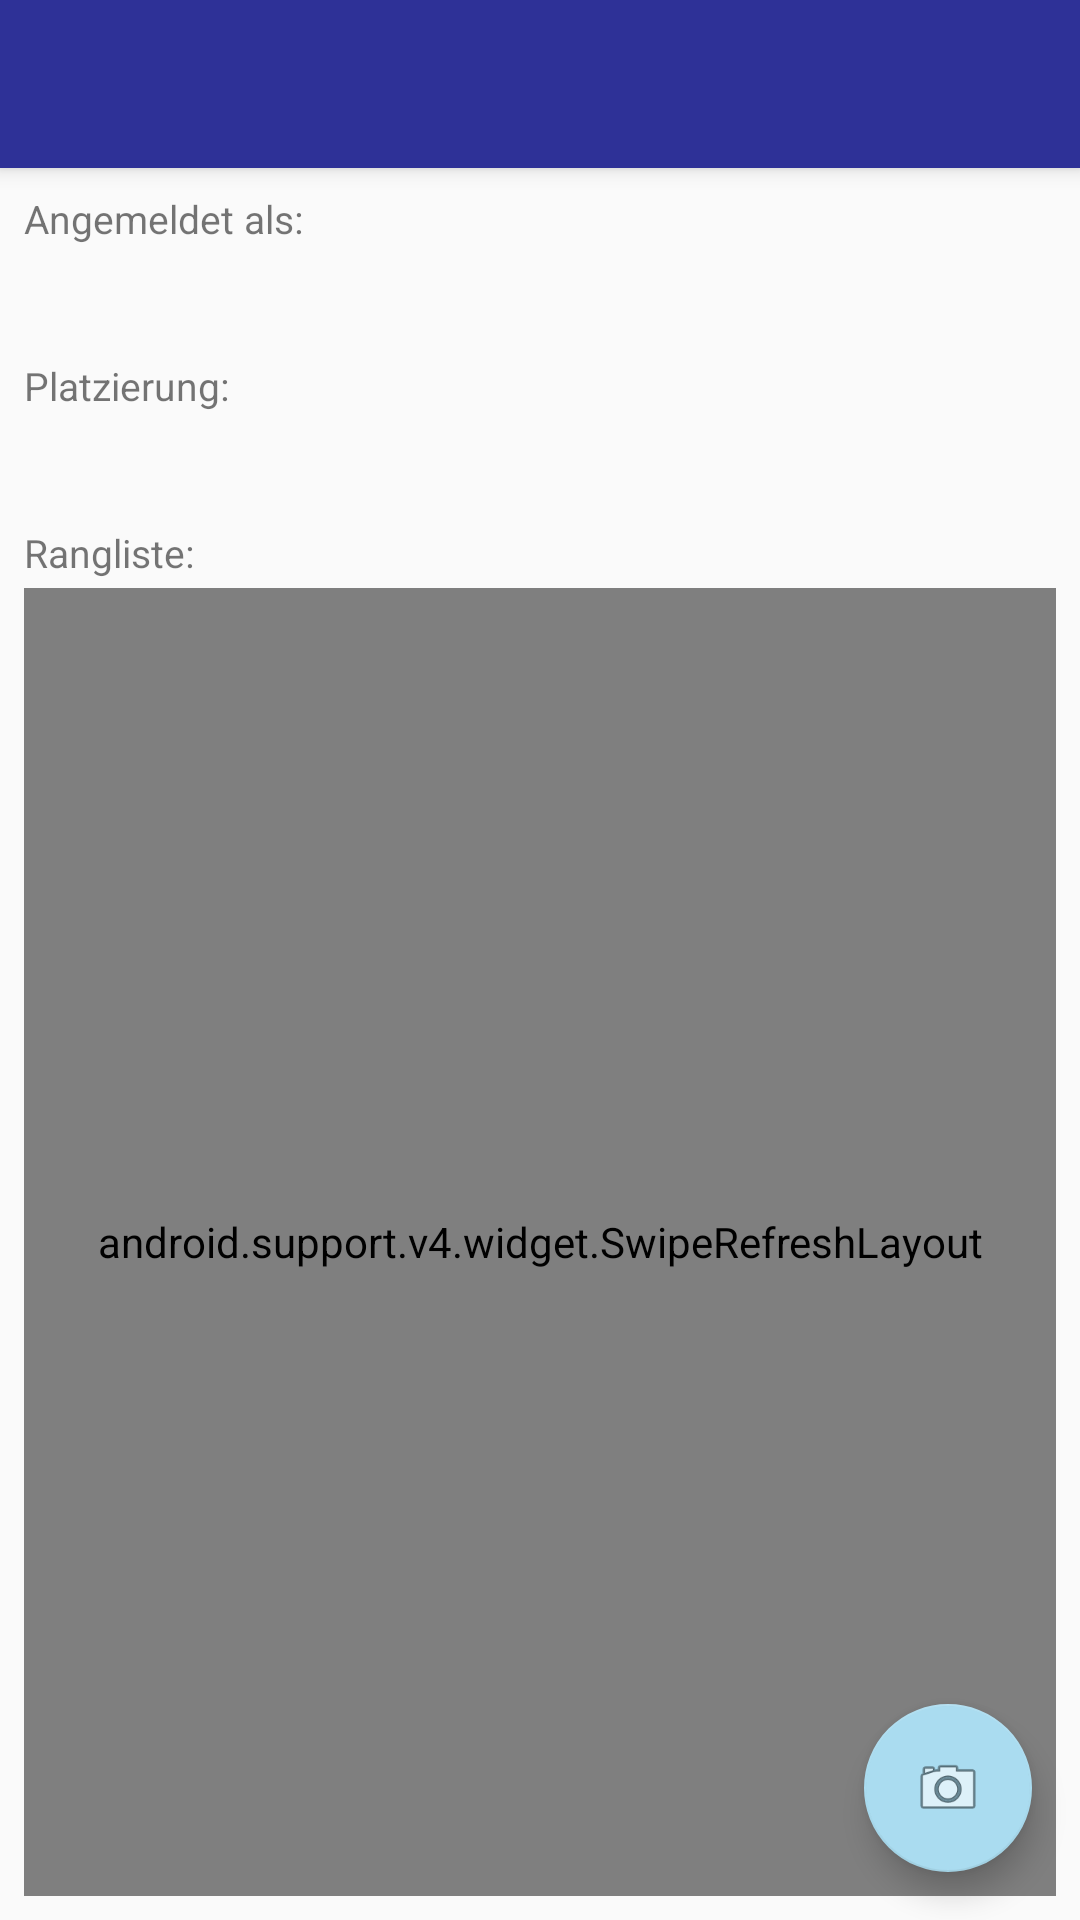

Locate icon controls on the screen. Image size 1080px x 1920px, boxes as (x1, y1, x2, y2).
camera: (864, 1704, 1032, 1872)
